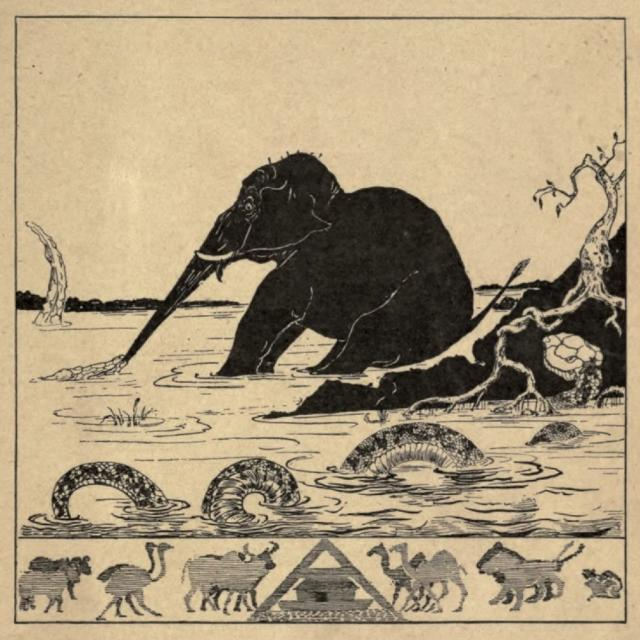elephant: (102, 158, 486, 386)
